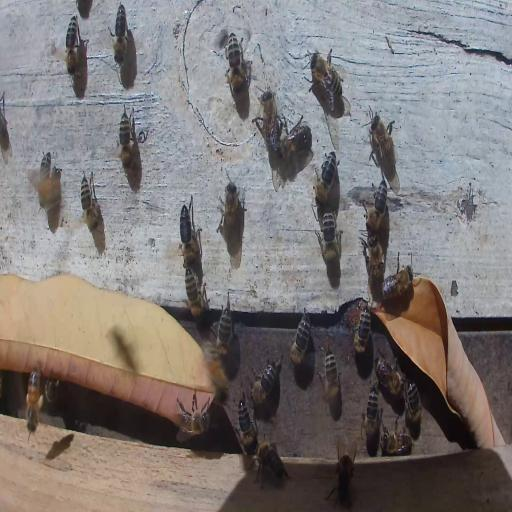bee: (308, 46, 343, 108), (364, 105, 395, 166), (248, 351, 282, 406), (381, 252, 417, 301), (252, 440, 290, 486), (219, 177, 242, 244), (174, 400, 210, 442), (280, 117, 312, 163), (330, 452, 356, 508), (225, 33, 249, 93), (79, 172, 103, 230), (322, 347, 341, 420), (258, 88, 279, 154), (364, 181, 388, 237), (25, 365, 44, 434), (313, 152, 337, 206), (289, 308, 311, 366), (374, 354, 404, 396), (236, 395, 256, 457), (318, 209, 341, 260), (351, 304, 373, 355), (178, 201, 196, 263), (362, 235, 384, 285), (184, 268, 206, 318), (38, 150, 55, 213), (112, 3, 128, 65), (118, 106, 133, 172), (64, 14, 80, 74), (364, 382, 380, 441), (405, 381, 421, 439), (383, 427, 413, 455), (217, 302, 232, 353), (44, 377, 59, 404)
